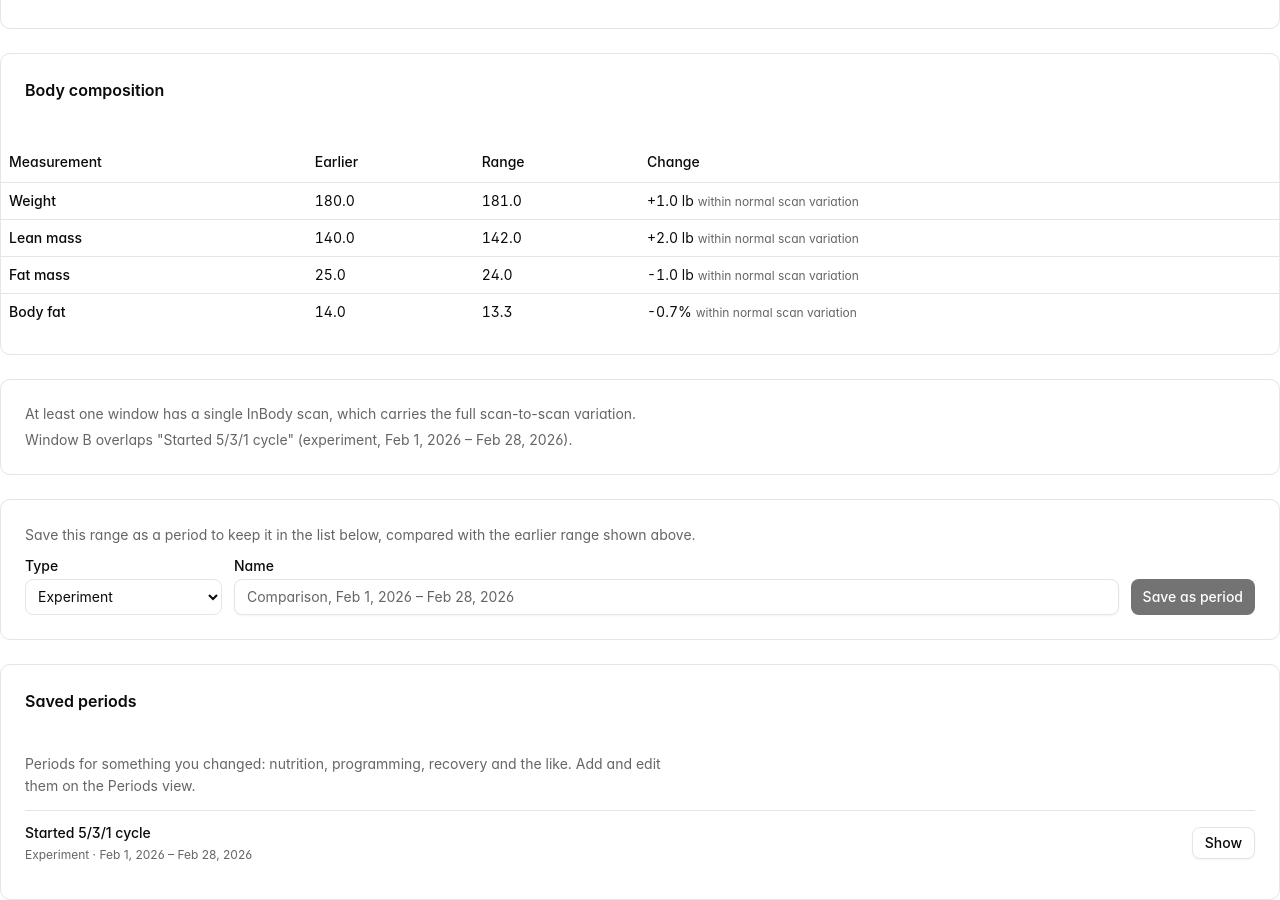
CompareTab — saved ranges › shows an error alert when the InBody upload failed
(page scrolled)
Click the button named "Show \"Started 5/3/1 cycle\"": [1223, 843] box [1192,827,1255,859]
(page scrolled)
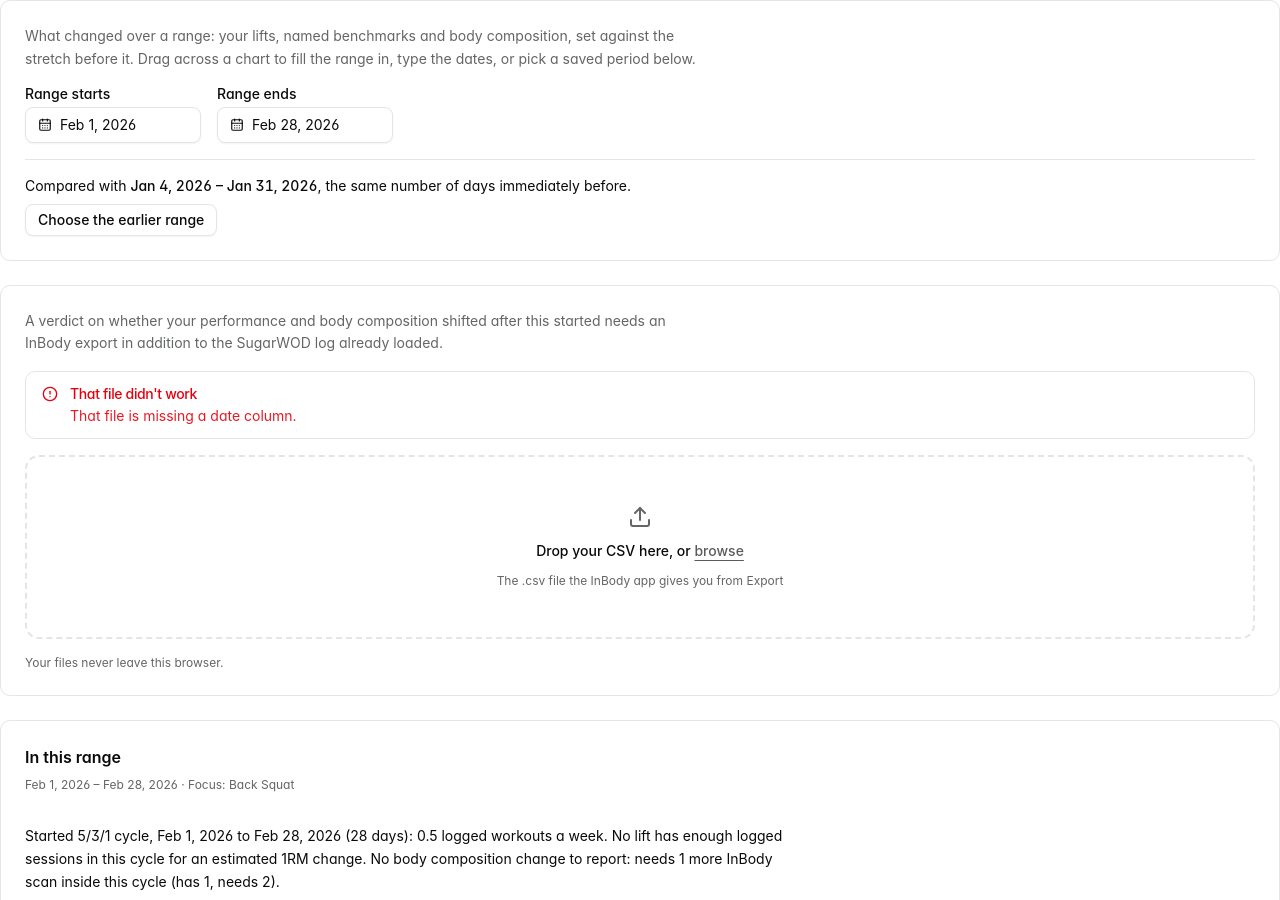
Expected: the text "That file didn't work" is shown, [70,385,197,402]
Expected: the text "That file is missing a date column." is shown, [70,407,297,424]
